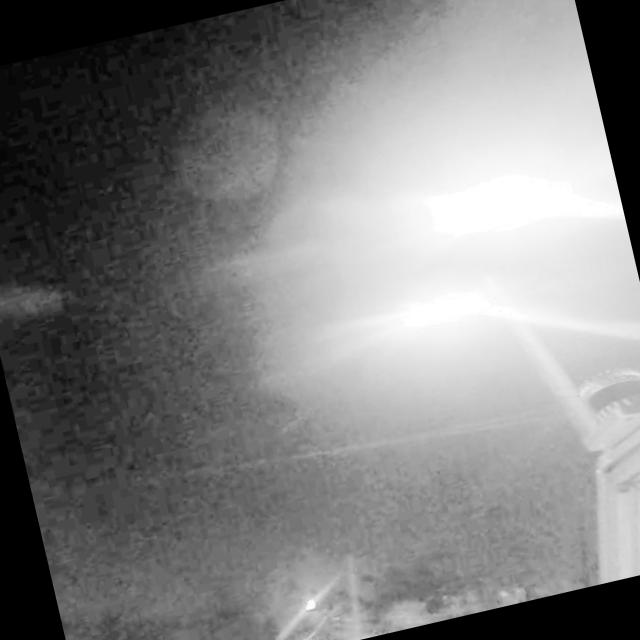Light: (405, 154, 578, 258), (394, 279, 491, 339)
